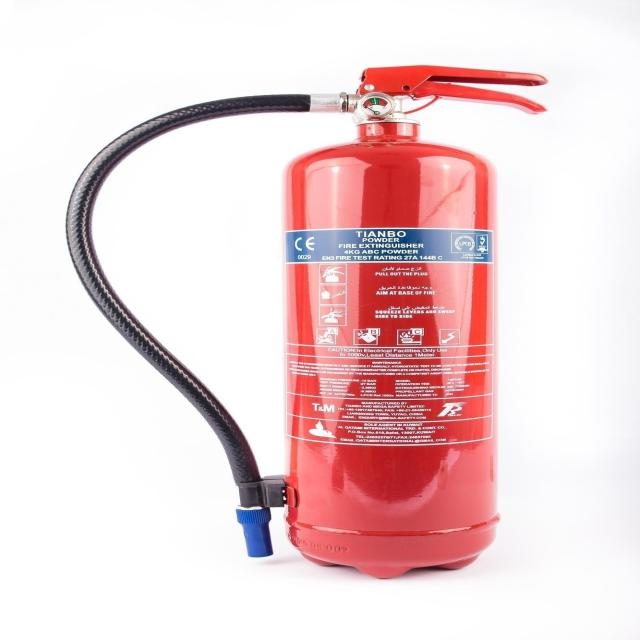fire_extinguisher: (59, 60, 554, 584)
